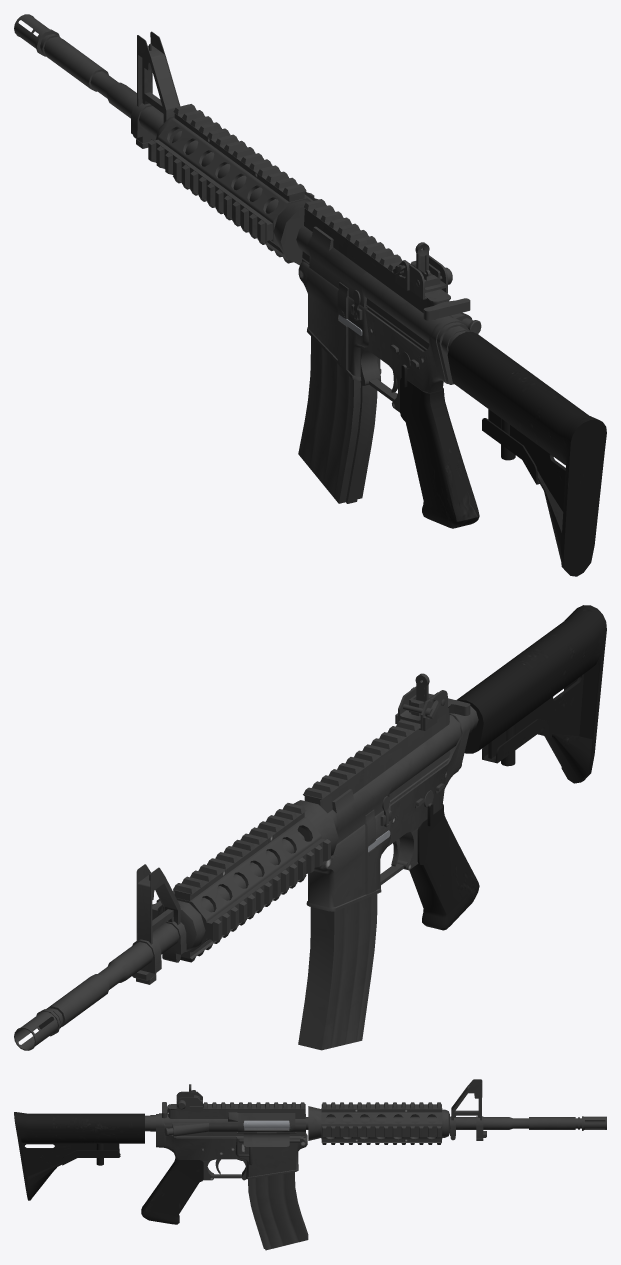
The model's file is oga_m4a1.glb.
3 renders of one model, top to bottom at view 1: azimuth 30°, elevation 25°; view 2: azimuth 150°, elevation 25°; view 3: azimuth 270°, elevation 25°, orthographic. The views are drawn at different scales.
Visible parts, largest first — view 1: Base, Barrel, Stock, Magazine, Sight; view 2: Base, Barrel, Stock, Magazine, Sight; view 3: Base, Barrel, Stock, Magazine, Ejector_Lid, Sight, Ejector.
Part boxes in pixels (<box>): Base: <box>296,199,481,528</box>; Barrel: <box>14,14,318,265</box>; Stock: <box>441,326,606,576</box>; Magazine: <box>298,336,377,503</box>; Sight: <box>395,242,447,299</box>; Base: <box>303,702,479,930</box>; Barrel: <box>14,800,338,1050</box>; Stock: <box>456,605,606,783</box>; Magazine: <box>298,894,377,1050</box>; Sight: <box>395,673,447,730</box>; Base: <box>141,1102,307,1224</box>; Barrel: <box>306,1079,606,1144</box>; Stock: <box>14,1112,155,1200</box>; Magazine: <box>248,1172,308,1250</box>; Ejector_Lid: <box>237,1132,296,1146</box>; Sight: <box>176,1084,202,1111</box>; Ejector: <box>243,1120,289,1128</box>.
Bounding box in the file's own units: 0.0636 × 0.2663 × 0.8588.
Materials: 1 (1 with a texture image).
